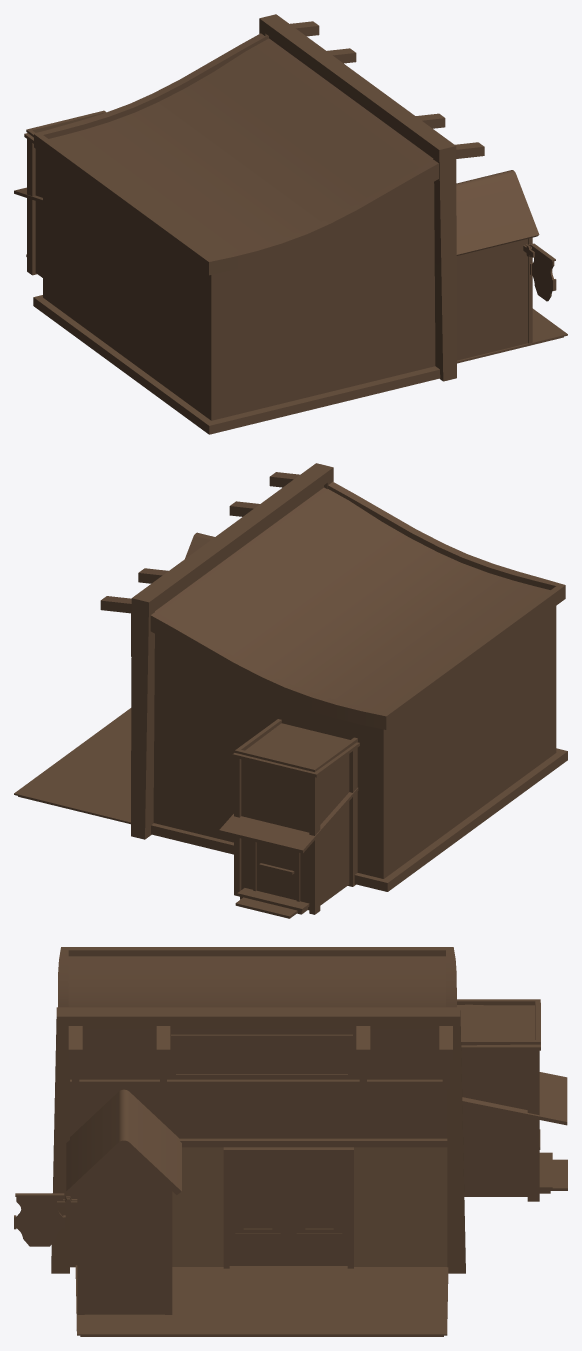
The model's file is tabacco_building.fbx.
3 views of the same model, one above another, from view 1: azimuth 30°, elevation 25°; view 2: azimuth 150°, elevation 25°; view 3: azimuth 270°, elevation 25° (orthographic). The views are drawn at different scales.
Parts seen in each view (by area): view 1: tabacoo_build; view 2: tabacoo_build; view 3: tabacoo_build.
Boxes of the visible parts, x1=… form: tabacoo_build: x1=14, y1=14, x2=567, y2=434; tabacoo_build: x1=14, y1=463, x2=567, y2=918; tabacoo_build: x1=14, y1=947, x2=567, y2=1336.
Size of the model in its own units: 20.33 by 12.23 by 23.7.
